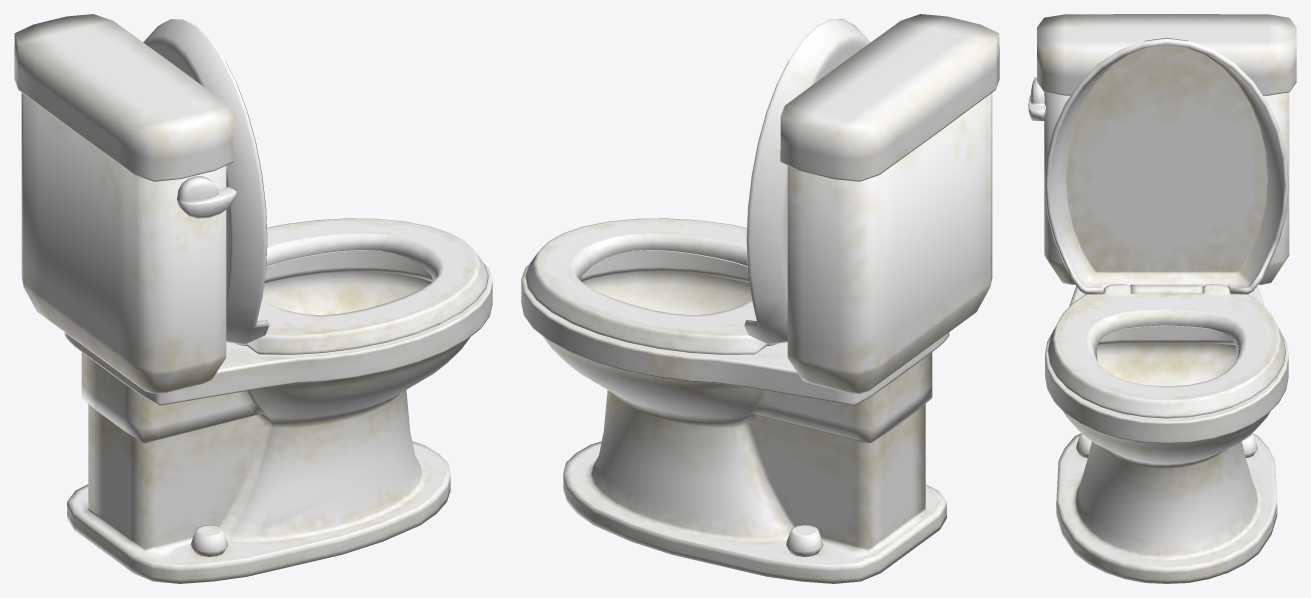
3 renders of one model, left to right at view 1: azimuth 30°, elevation 25°; view 2: azimuth 150°, elevation 25°; view 3: azimuth 270°, elevation 25°, orthographic. The views are drawn at different scales.
Parts seen in each view (by area): view 1: Daska; view 2: Daska; view 3: Daska.
Part boxes in pixels (x1,y1,x2,y2): Daska: (14,14,492,583); Daska: (521,14,999,583); Daska: (1028,14,1296,583).
Bounding box in the file's own units: 0.8846 × 1.06 × 0.5821.
1 material, 1 textured.
